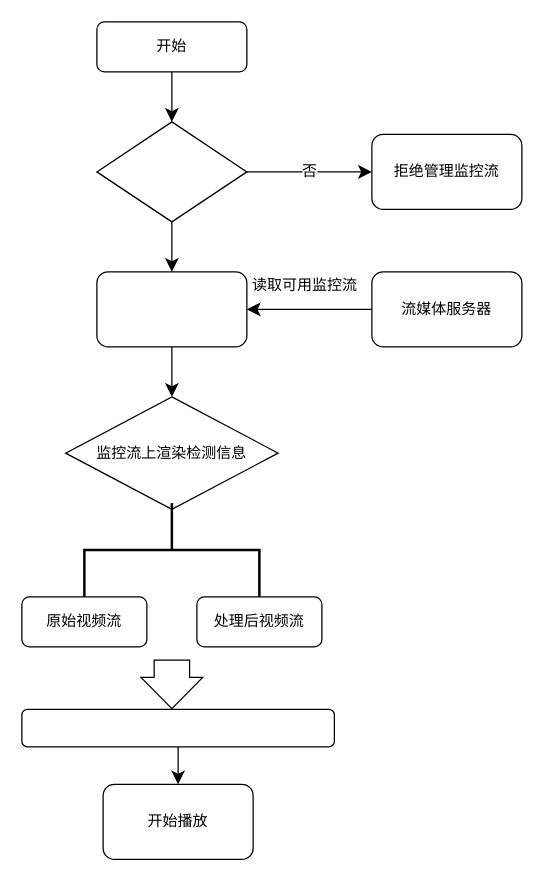
The diagram is 544 pixels wide and 881 high, and some of its shapes have lost their labels. The centre of each missing label's shape, as x and y in pixels:
添加监控点的位置，播放参数信息: pixel 177 727
选择监控流并预览: pixel 171 309
验证管理员身份: pixel 171 171
